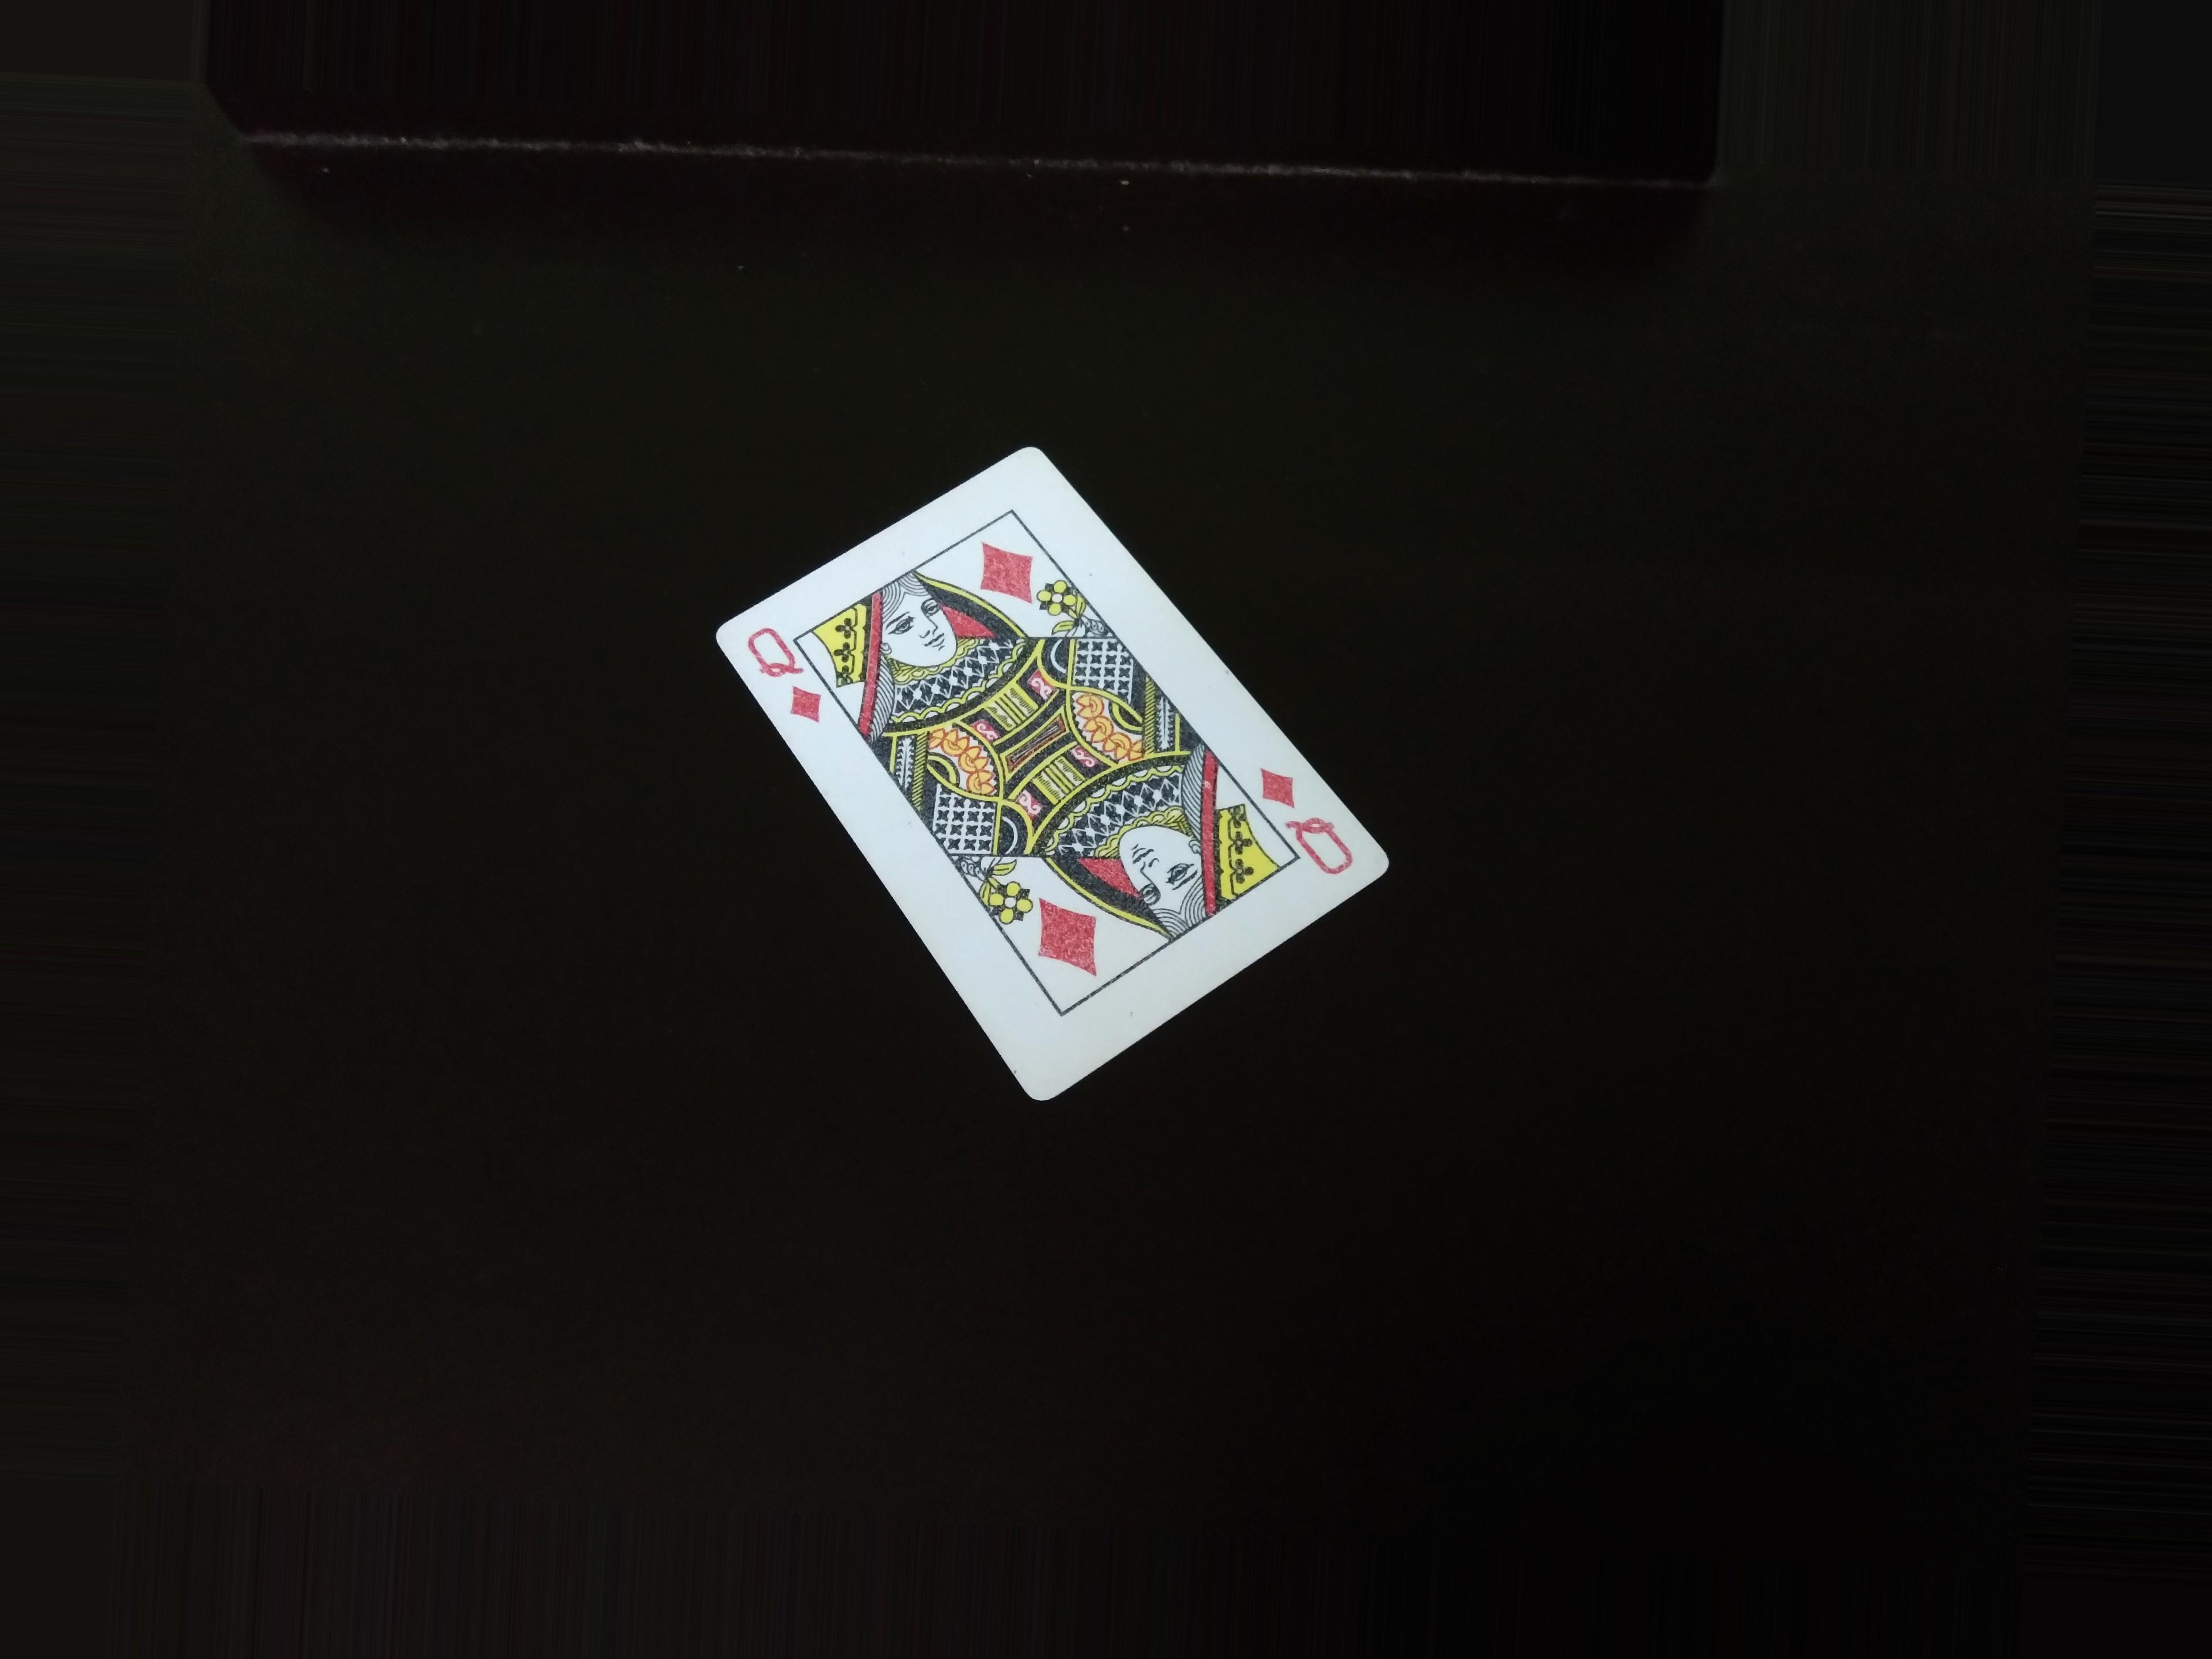QD: (740, 626, 829, 728)
